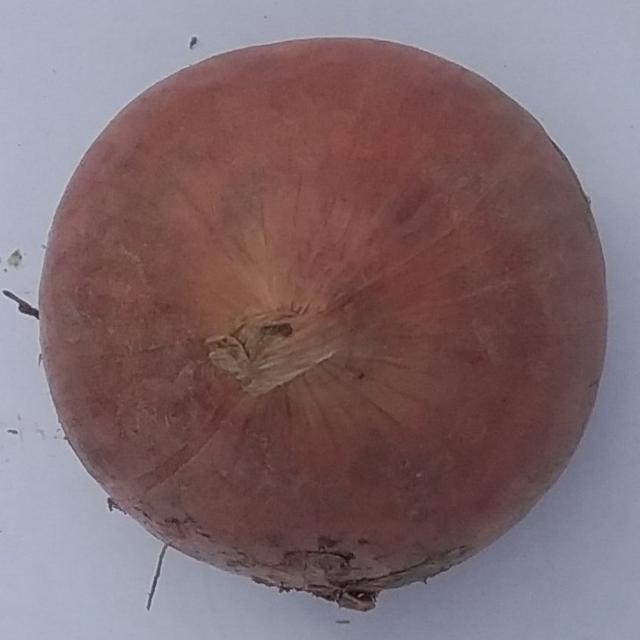onion: (32, 27, 611, 614)
